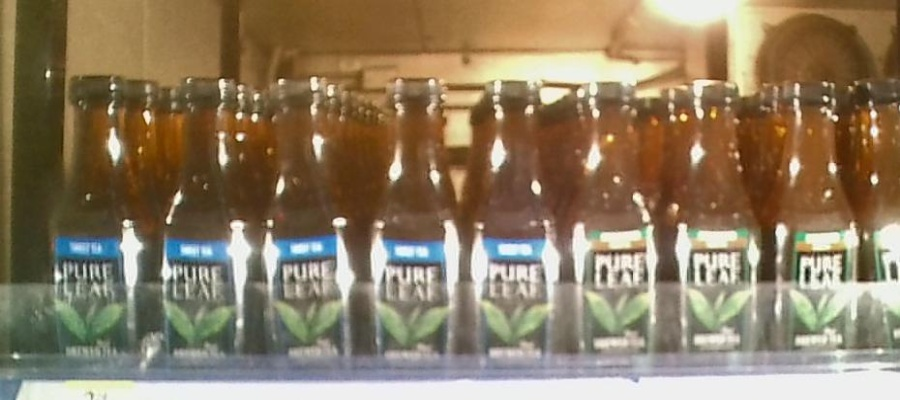bottle: (41, 70, 154, 366), (256, 73, 364, 369), (468, 72, 569, 374), (571, 74, 670, 371), (158, 70, 255, 369), (367, 78, 465, 371), (770, 79, 862, 363), (674, 87, 766, 359), (864, 76, 900, 361)
